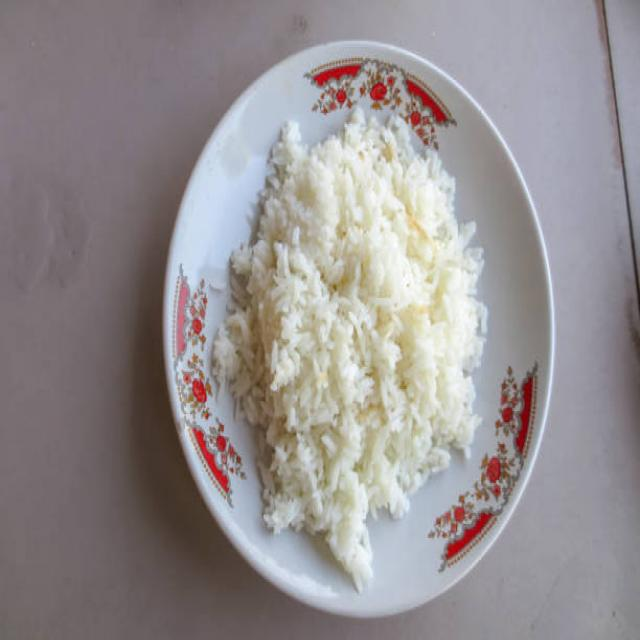rice: (210, 102, 490, 596)
